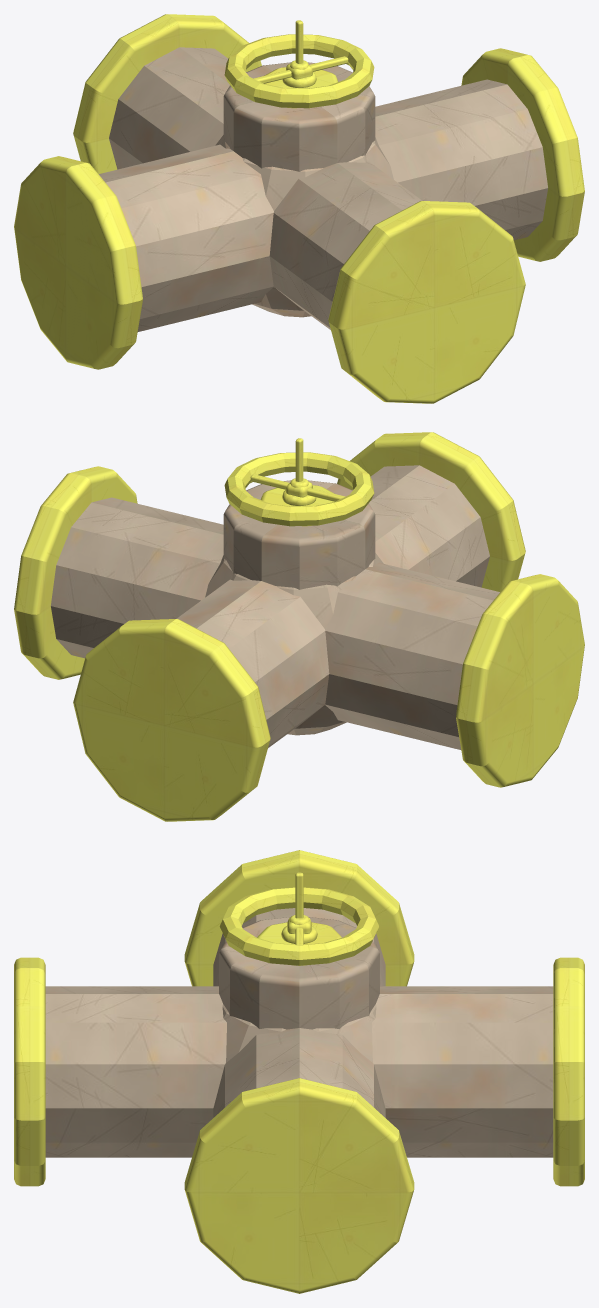
File: ff-pipe.glb
The picture shows the model from 3 angles, top to bottom: view 1: azimuth 30°, elevation 25°; view 2: azimuth 150°, elevation 25°; view 3: azimuth 270°, elevation 25°; orthographic projection. The views are drawn at different scales.
Visible parts, largest first — view 1: Flange, ArmX, ArmZ, Hub, ValveStem.002; view 2: Flange, ArmX, ArmZ, Hub, ValveStem.002; view 3: Flange, ArmZ, Hub, ArmX, ValveStem.002.
Part boxes in pixels (x1,y1,x2,y2): Flange: [14, 14, 584, 403]; ArmX: [99, 79, 547, 331]; ArmZ: [109, 47, 422, 329]; Hub: [215, 62, 393, 317]; ValveStem.002: [264, 60, 338, 108]; Flange: [14, 432, 584, 821]; ArmX: [51, 497, 499, 749]; ArmZ: [176, 465, 489, 747]; Hub: [205, 480, 383, 735]; ValveStem.002: [260, 478, 334, 526]; Flange: [14, 850, 584, 1293]; ArmZ: [45, 986, 553, 1157]; Hub: [219, 917, 379, 1062]; ArmX: [213, 908, 385, 1117]; ValveStem.002: [257, 915, 341, 965].
Size of the model in its own units: 0.995 by 0.582 by 0.995.
Materials: 3 (3 with a texture image).
